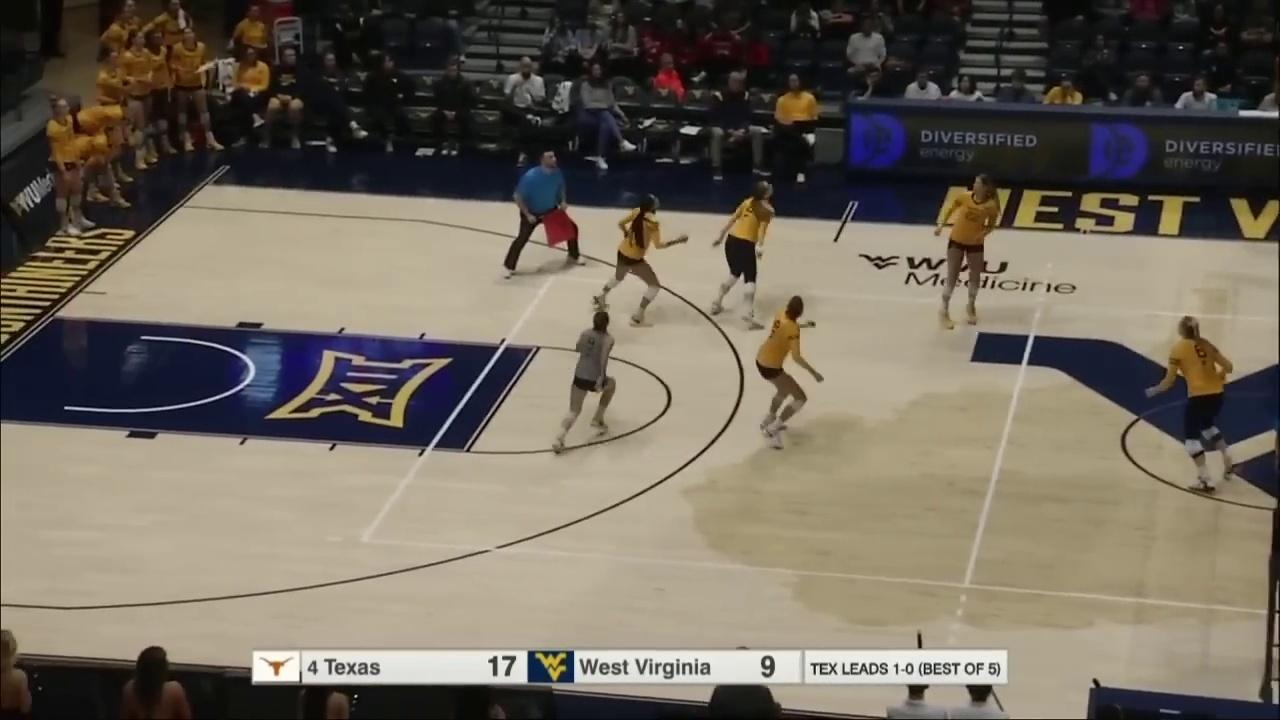player: (1144, 313, 1236, 494), (597, 192, 692, 325), (708, 181, 784, 325), (940, 172, 1003, 339), (754, 299, 822, 448), (558, 313, 618, 455)
refree: (504, 151, 584, 279)
